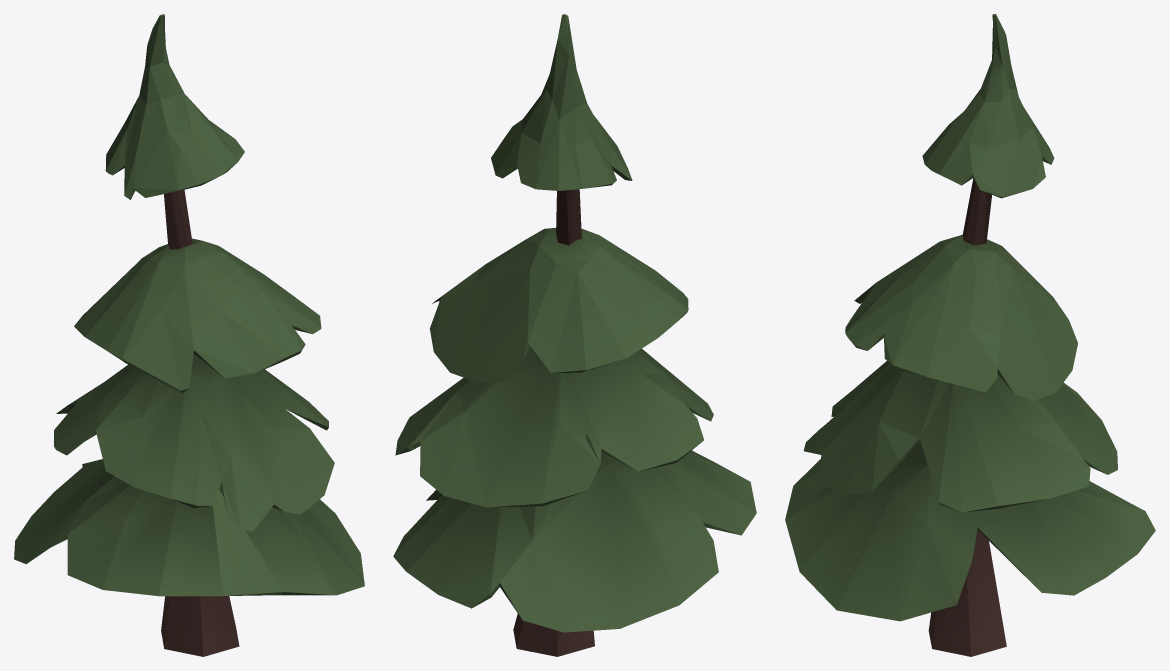
Rendered from pinetree-2.glb.
The picture shows the model from 3 angles, left to right: view 1: azimuth 30°, elevation 25°; view 2: azimuth 150°, elevation 25°; view 3: azimuth 270°, elevation 25°; orthographic projection. The views are drawn at different scales.
Parts seen in each view (by area): view 1: pinetree-2; view 2: pinetree-2; view 3: pinetree-2.
Part boxes in pixels (<box>): pinetree-2: <box>14,14,364,656</box>; pinetree-2: <box>393,14,756,656</box>; pinetree-2: <box>785,14,1155,656</box>.
Bounding box in the file's own units: 3.26 × 6.5 × 3.57.
